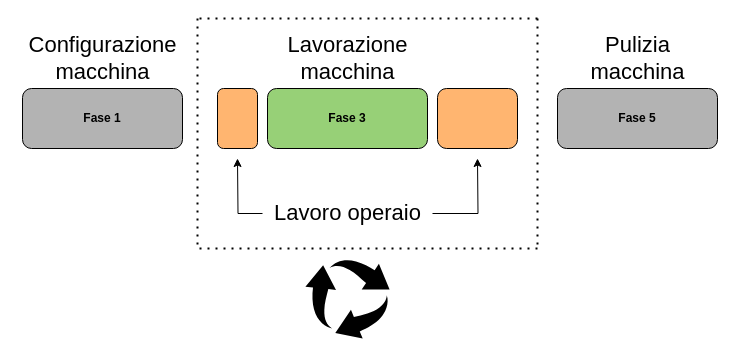
This 735x355 diagram has some shape labels left out. Each missing label, with the centre of its shape:
"Fase 2" goes at (237,118).
"Fase 4" goes at (477,118).
